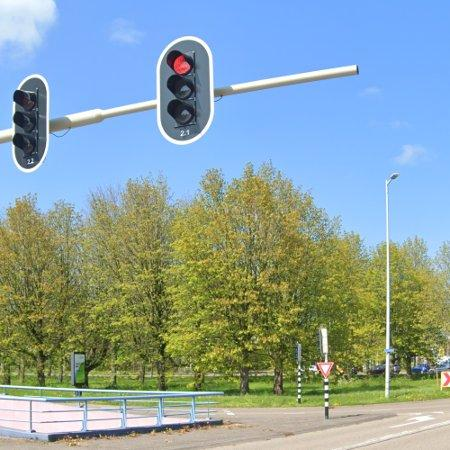traffic lights: (157, 36, 214, 144)
